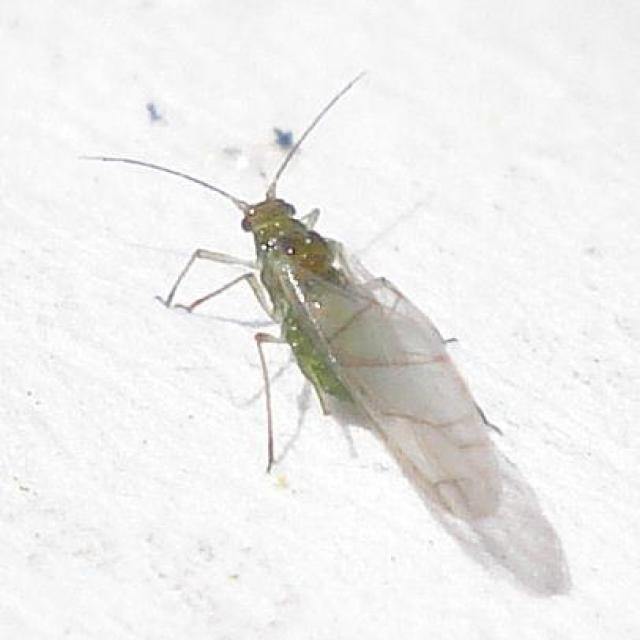Aphids: (75, 93, 532, 541)
